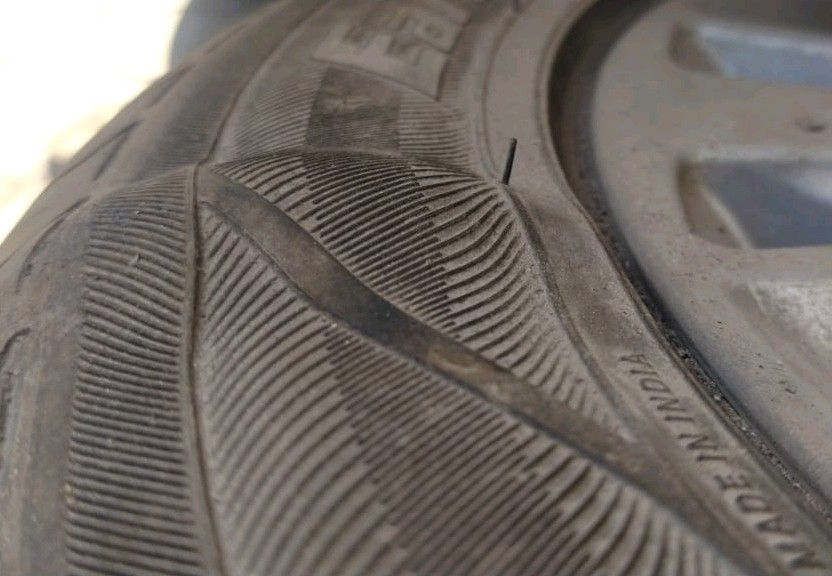CBU: (51, 152, 537, 331)
